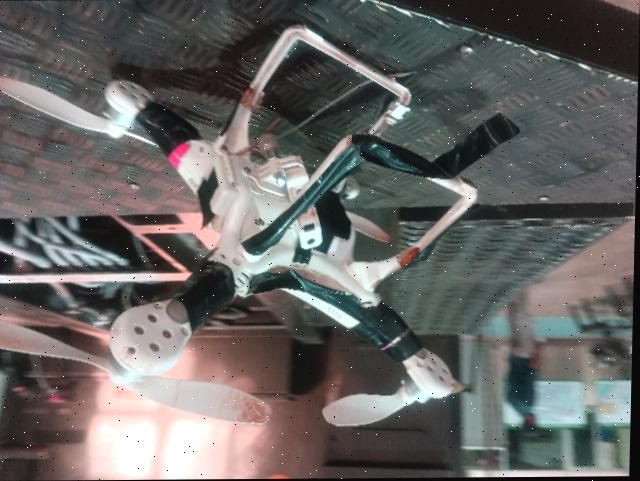drone: (0, 19, 538, 432)
